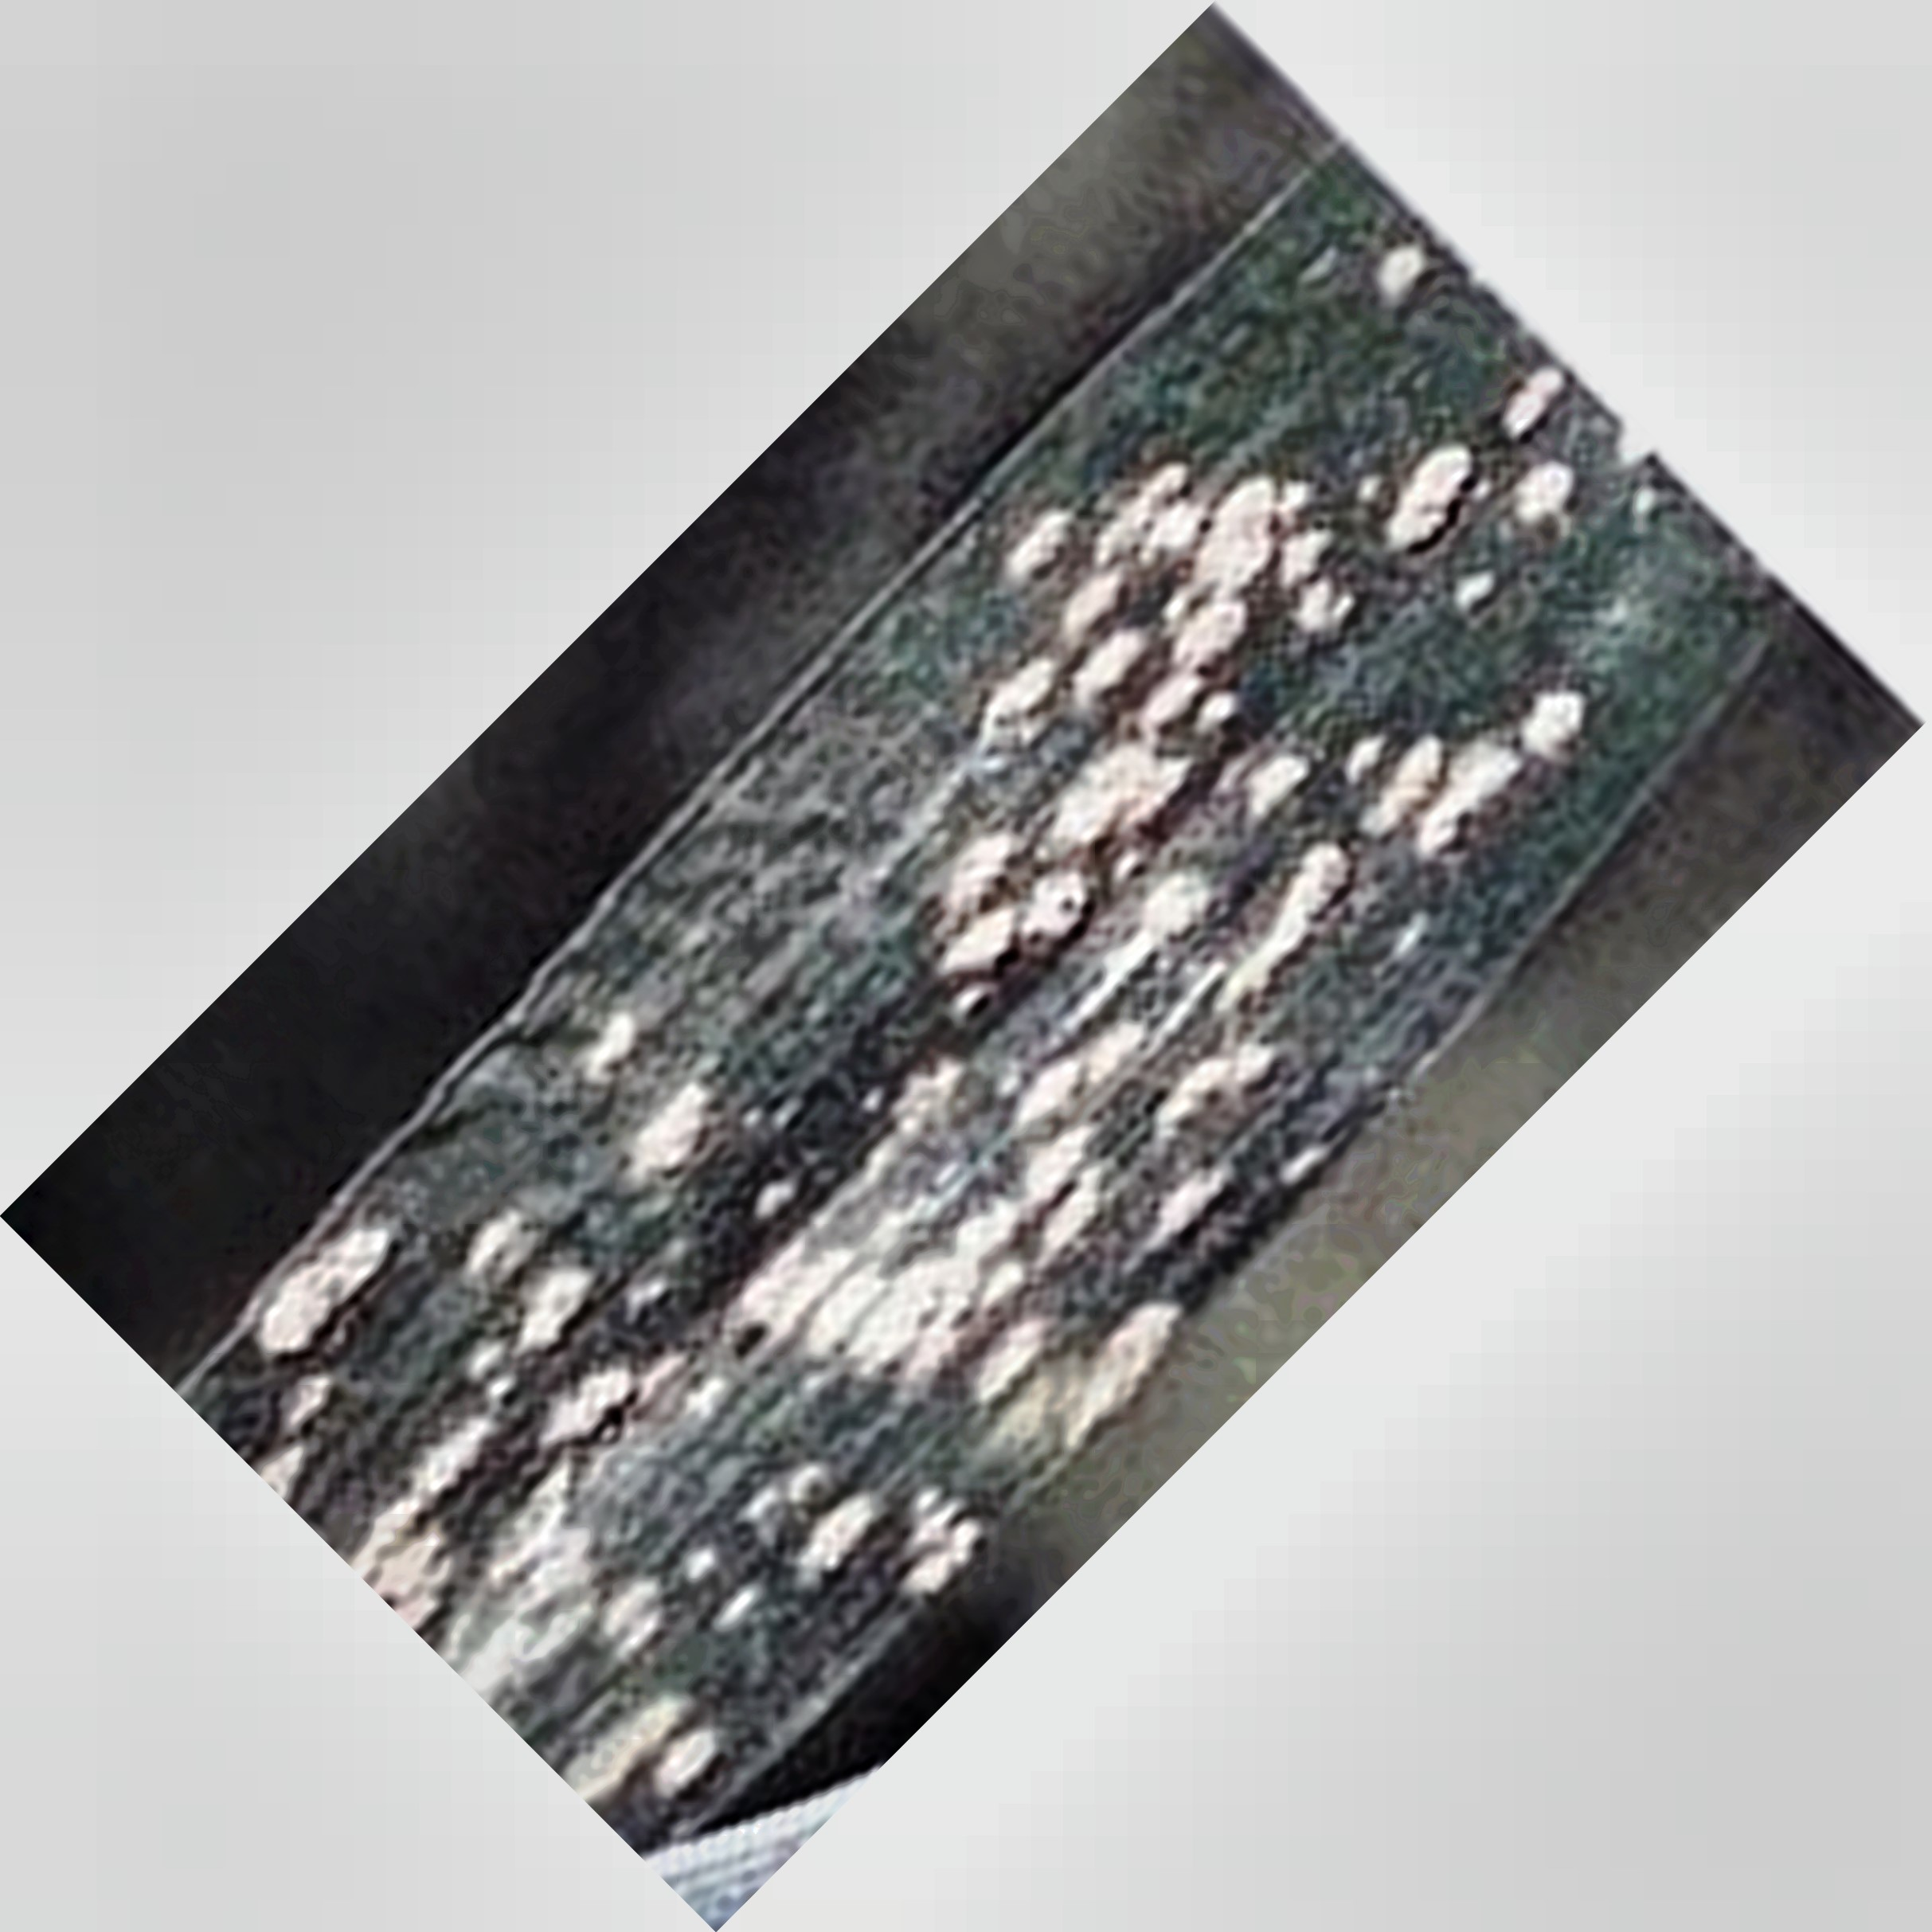Powdery Mildew: (405, 423, 1525, 1493)
